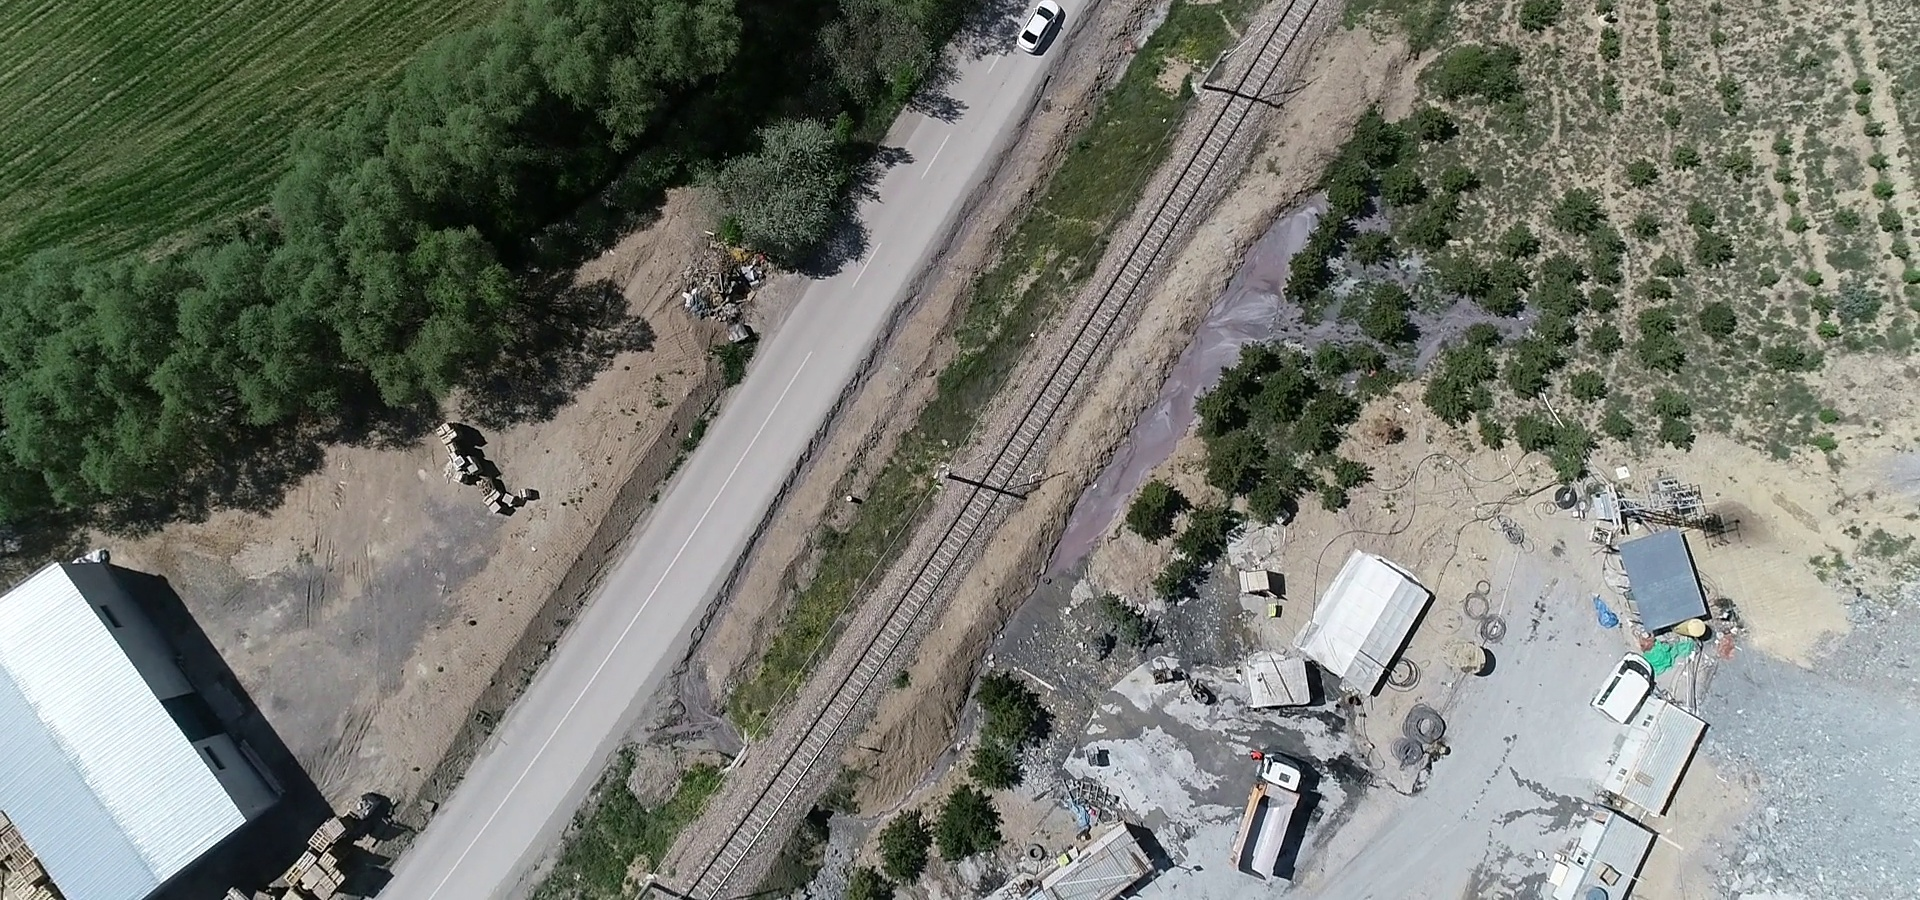araba: (1018, 1, 1069, 67)
kamyon: (1226, 751, 1316, 878)
